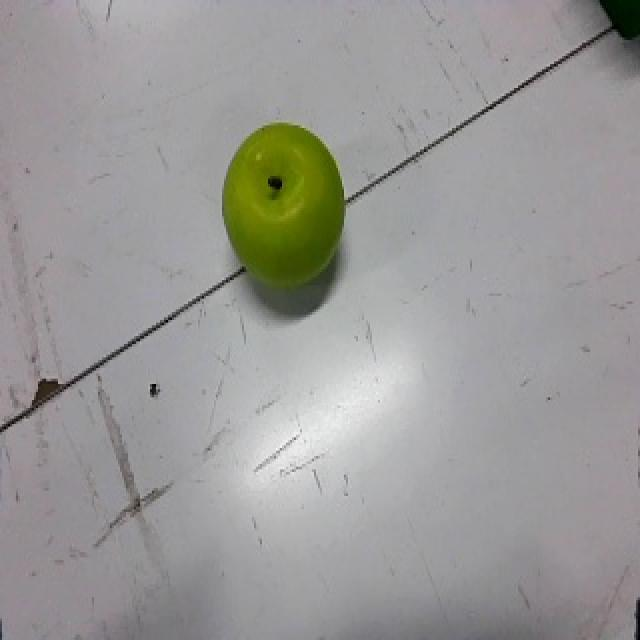apple: (220, 121, 350, 291)
